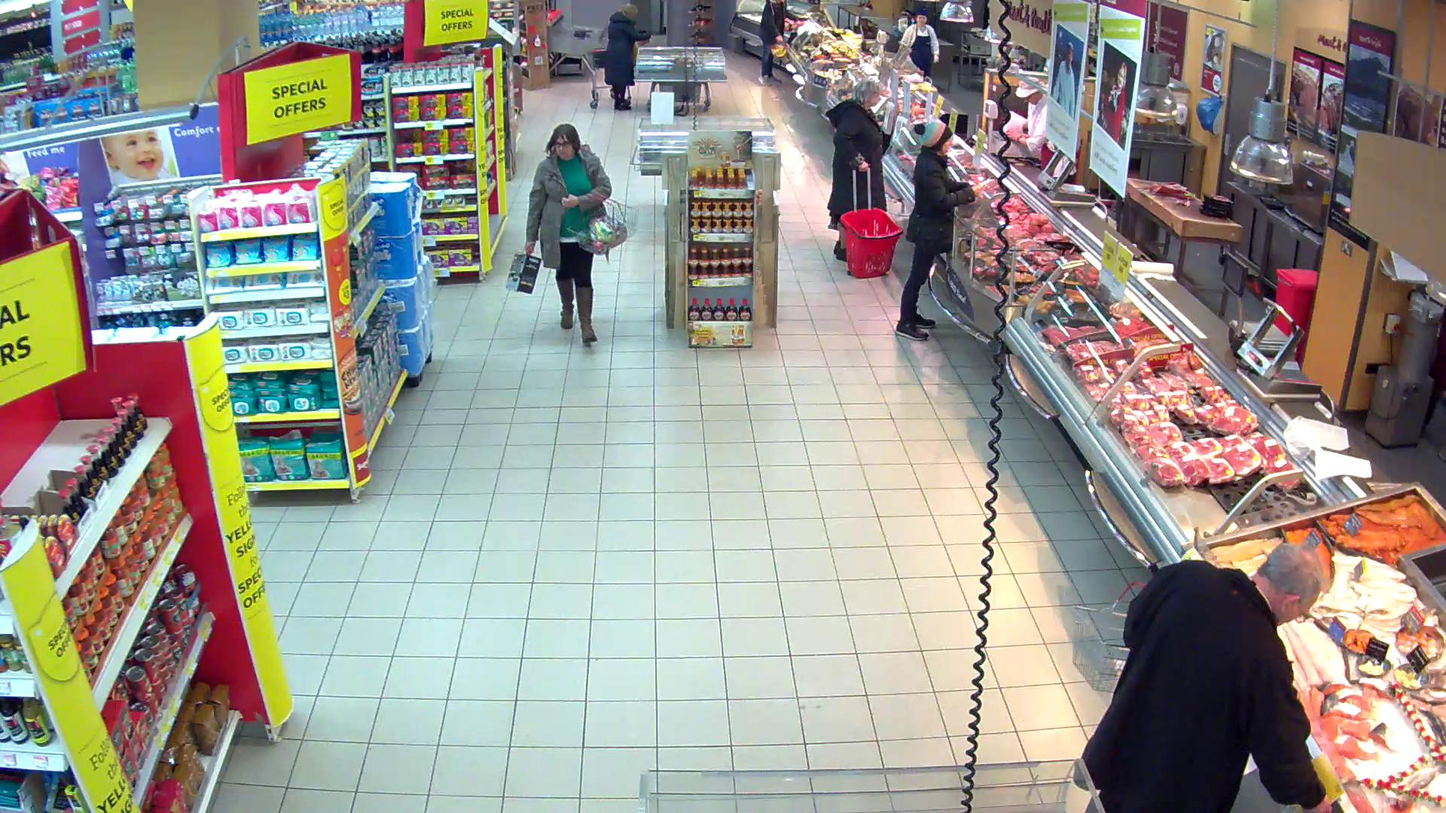carrying-item: (505, 252, 542, 295)
filled-basket: (840, 206, 903, 279), (565, 195, 638, 256)
person: (526, 124, 613, 344), (825, 81, 891, 260)
person-with-basket-trolly-and-carrying-item: (506, 123, 638, 344)
person-with-filled-basket-trolly: (825, 81, 903, 280)
